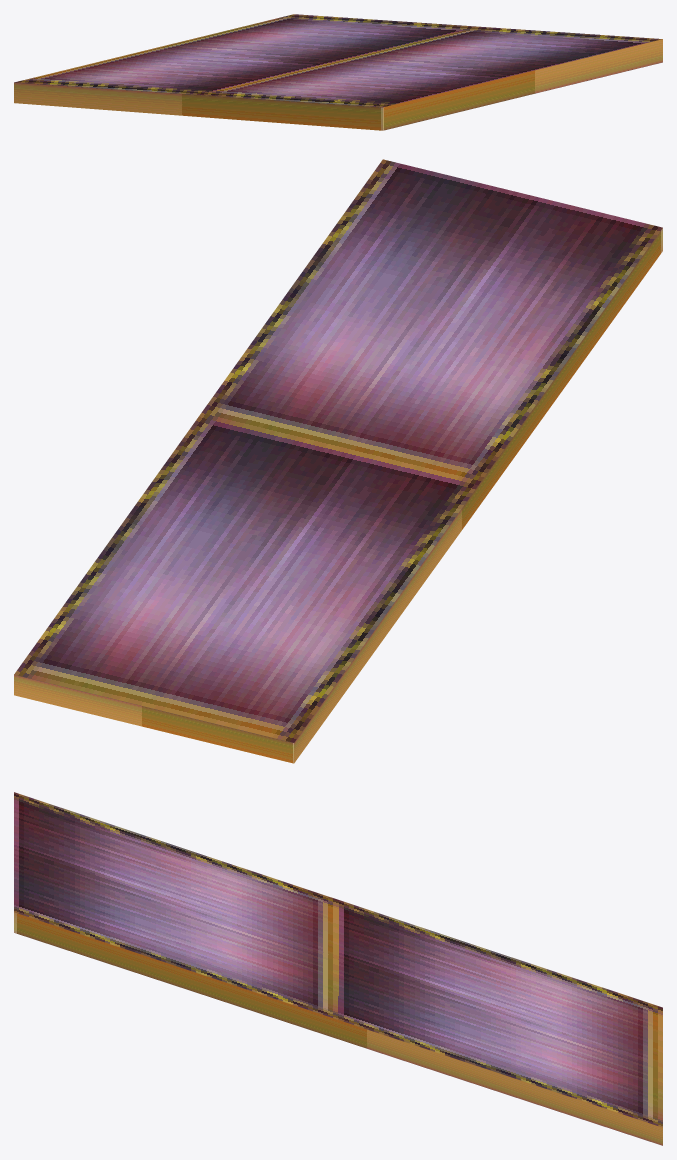
File: RAMP_01b01.glb
The picture shows the model from 3 angles, top to bottom: view 1: azimuth 30°, elevation 25°; view 2: azimuth 150°, elevation 25°; view 3: azimuth 270°, elevation 25°; orthographic projection. The views are drawn at different scales.
Visible parts, largest first — view 1: RAMP_01b01; view 2: RAMP_01b01; view 3: RAMP_01b01.
Part boxes in pixels (x1=…): RAMP_01b01: x1=14, y1=14, x2=662, y2=130; RAMP_01b01: x1=14, y1=159, x2=662, y2=763; RAMP_01b01: x1=14, y1=792, x2=662, y2=1145.
Size of the model in its own units: 764 by 693 by 1743.
Materials: 1 (1 with a texture image).
